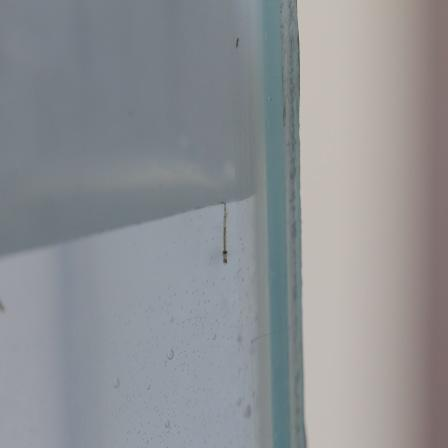Jentik-Nyamuk: (218, 199, 233, 267)
